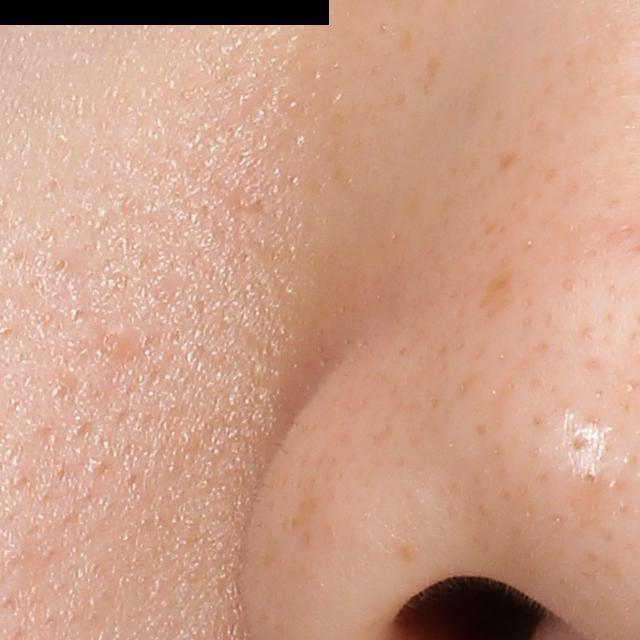comedo: (96, 324, 133, 365), (580, 467, 603, 493)
melasma: (466, 264, 515, 323), (423, 54, 448, 89), (494, 151, 525, 179), (395, 26, 417, 58)
